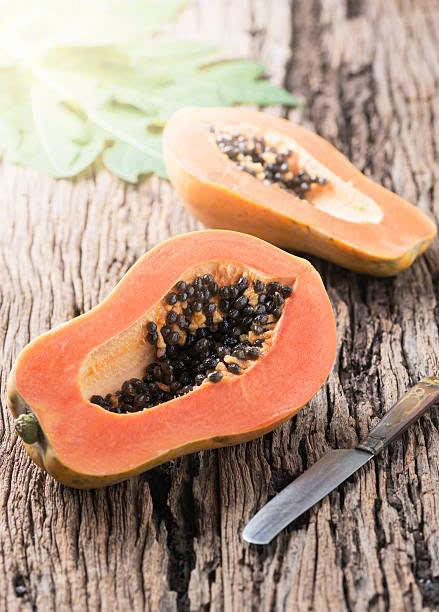papaya: (17, 231, 339, 463), (164, 102, 439, 276)
